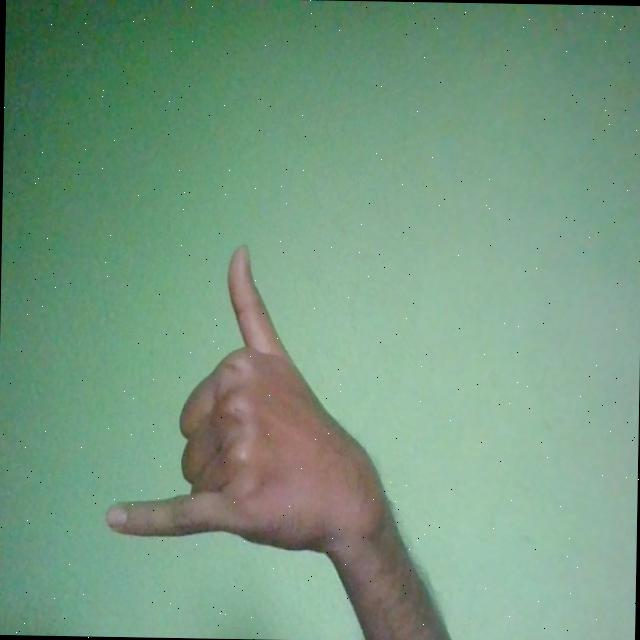Call Me: (102, 240, 398, 556)
